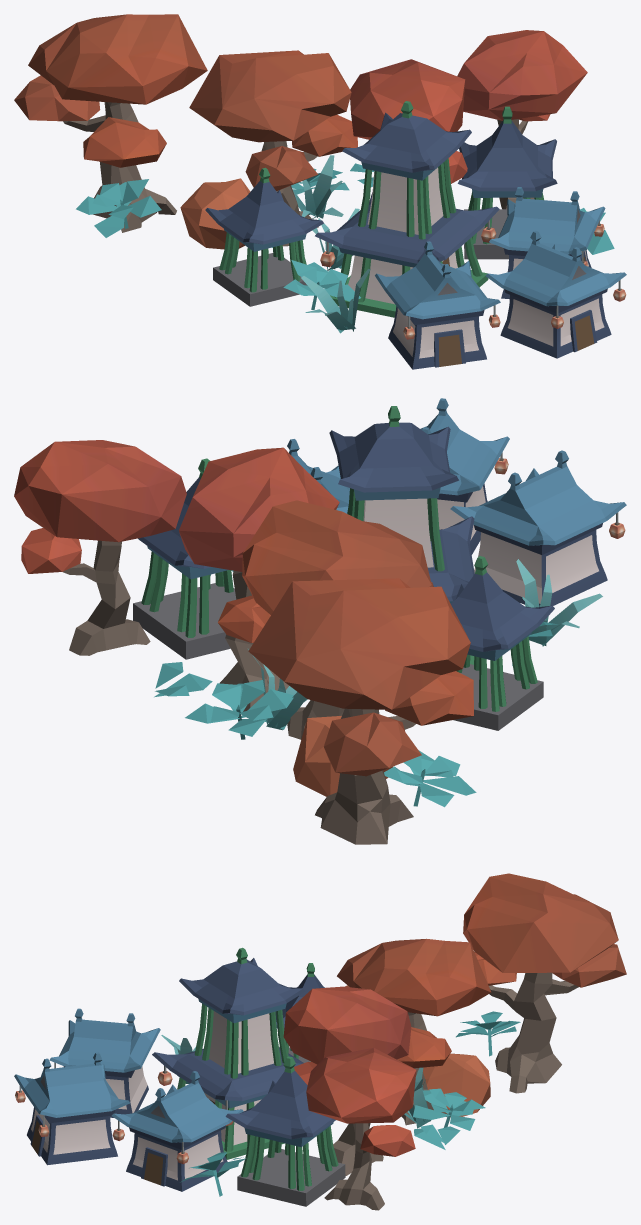
Rendered from townBurning2.fbx.
The picture shows the model from 3 angles, top to bottom: view 1: azimuth 30°, elevation 25°; view 2: azimuth 150°, elevation 25°; view 3: azimuth 270°, elevation 25°; orthographic projection. The views are drawn at different scales.
Parts seen in each view (by area): view 1: townBurning2; view 2: townBurning2; view 3: townBurning2.
Part boxes in pixels (left/top/right/bottom): townBurning2: left=14, top=14, right=626, bottom=369; townBurning2: left=14, top=398, right=626, bottom=844; townBurning2: left=14, top=873, right=626, bottom=1210.
Bounding box in the file's own units: 6.69 × 2.97 × 8.69.
1 material, 1 textured.
